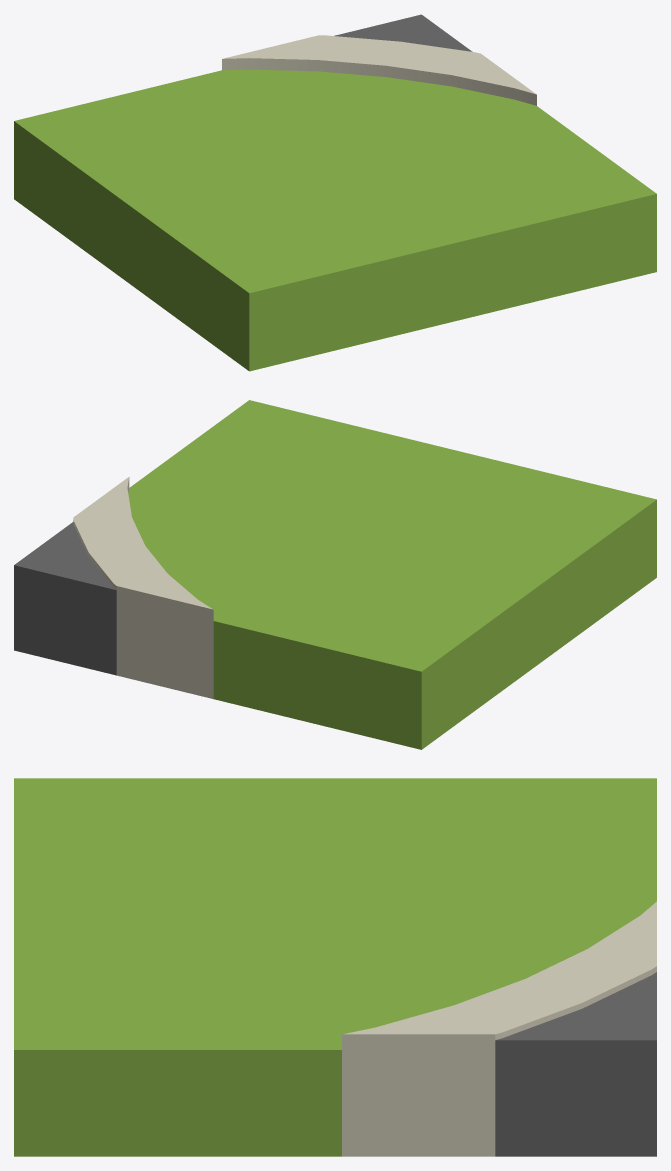
Rendered from tile105.obj.
3 renders of one model, top to bottom at view 1: azimuth 30°, elevation 25°; view 2: azimuth 150°, elevation 25°; view 3: azimuth 270°, elevation 25°, orthographic. The views are drawn at different scales.
Visible parts, largest first — view 1: tile105; view 2: tile105; view 3: tile105.
Boxes of the visible parts, bbox=[...] form: tile105: bbox=[14, 14, 656, 371]; tile105: bbox=[14, 400, 656, 749]; tile105: bbox=[14, 778, 656, 1156].
Bounding box in the file's own units: 1 × 0.21 × 1.
